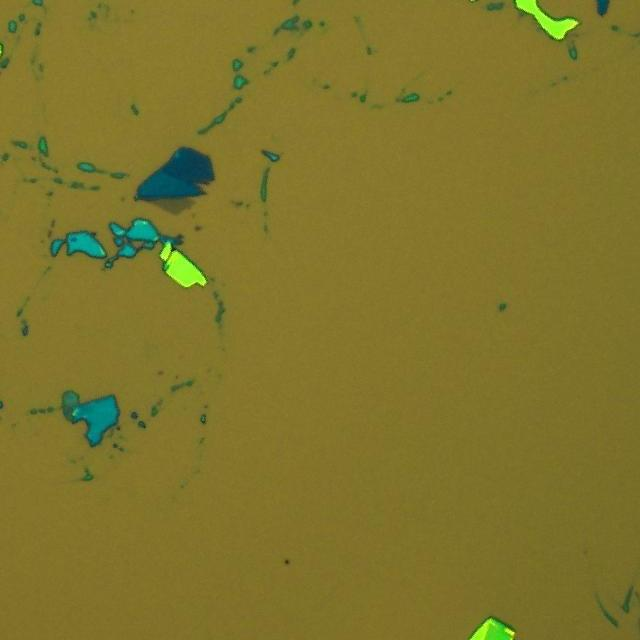monolayer-eWW4: (147, 196, 197, 216)
